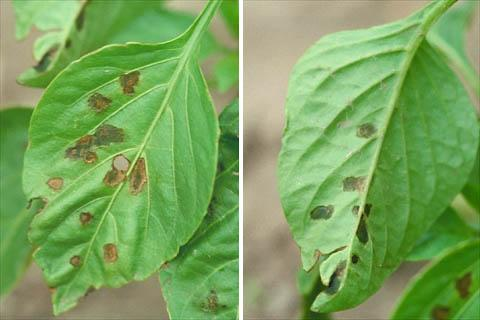Bell_pepper leaf: (17, 28, 222, 316), (275, 16, 461, 316)
